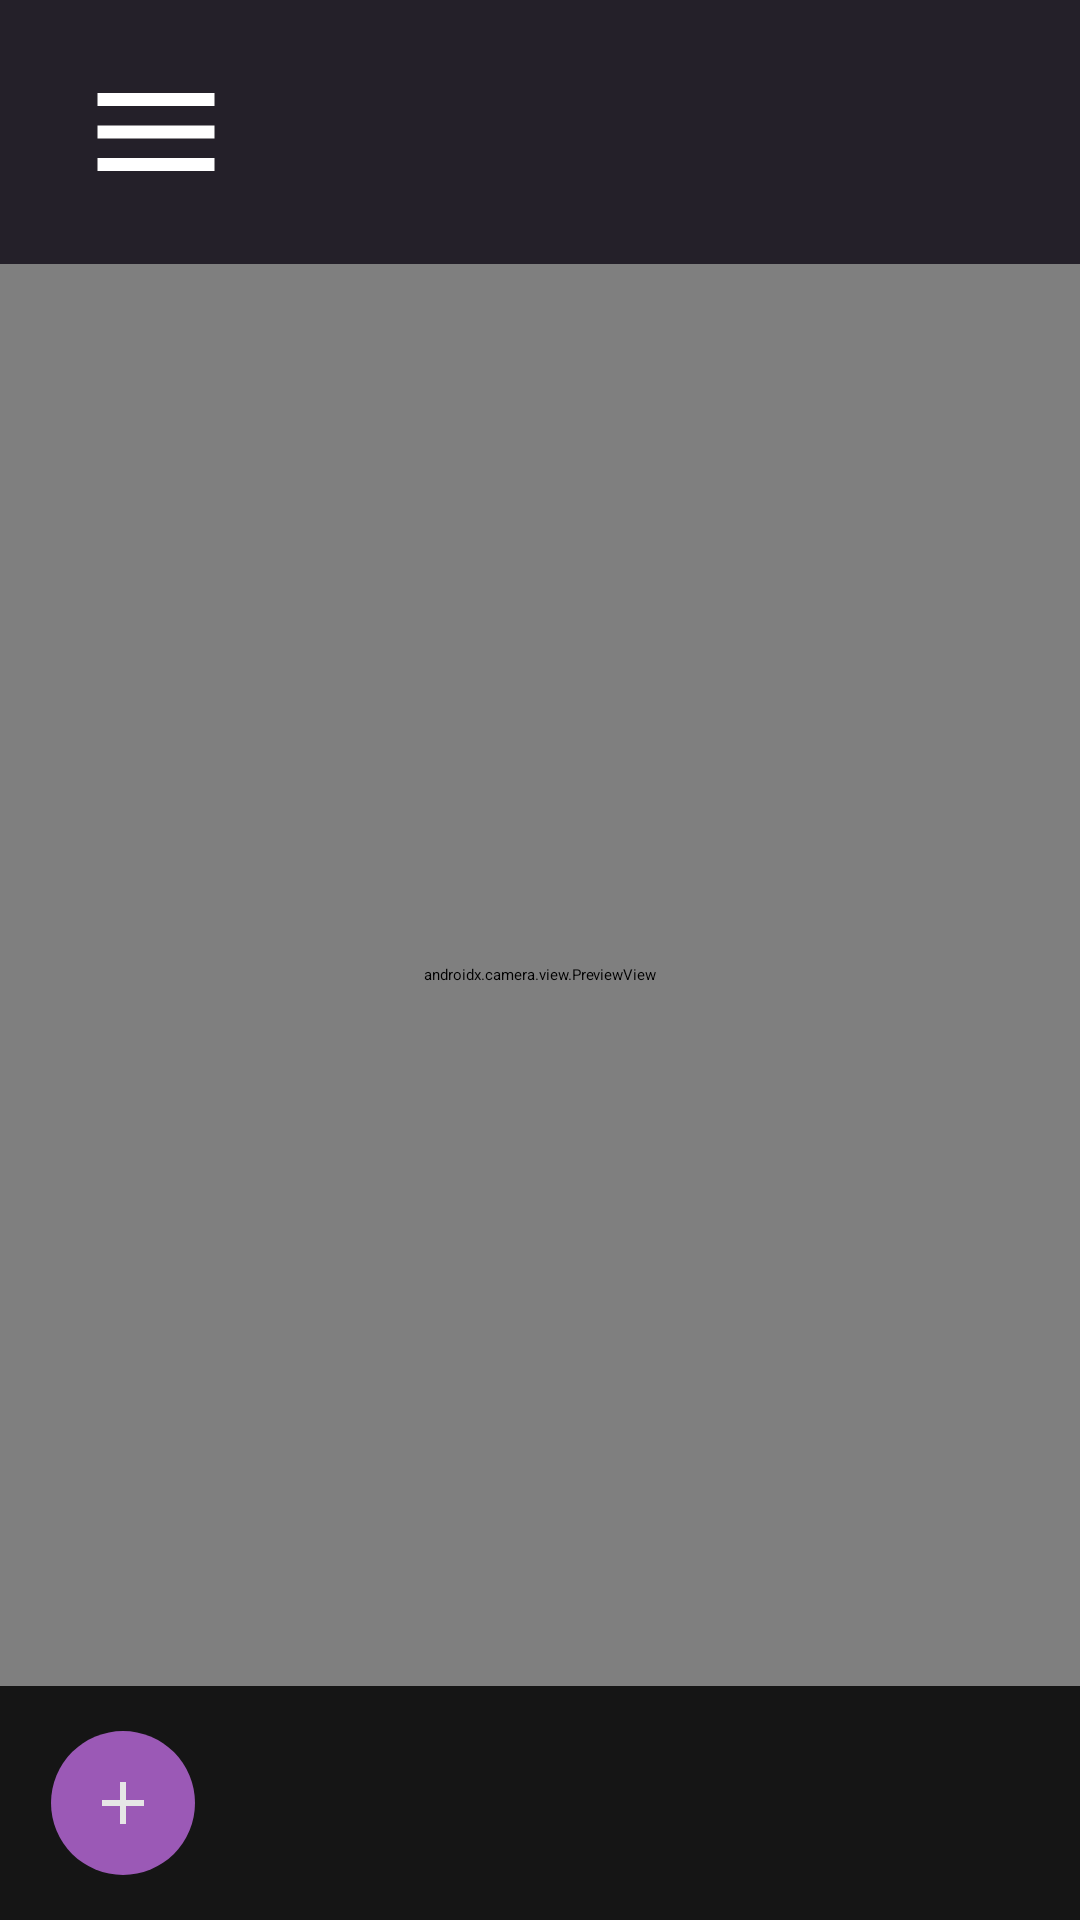

Icon click points for this 1080w x 1920h phone screenshot, format point (x, y):
Abrir menu: point (156, 132)
